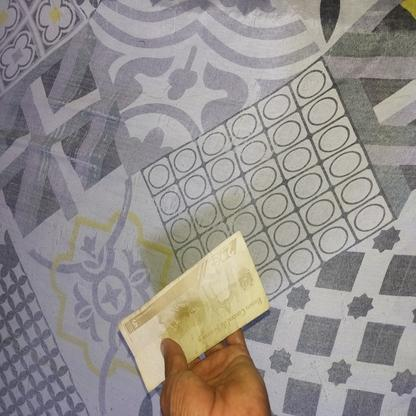five-back-vef: (119, 230, 269, 392)
